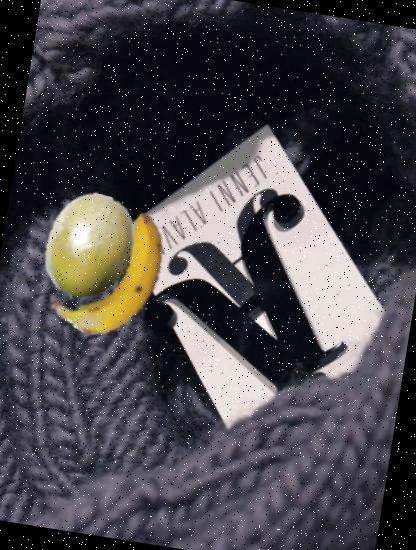Banana: (41, 200, 194, 352)
Maracuja: (27, 185, 152, 311)
